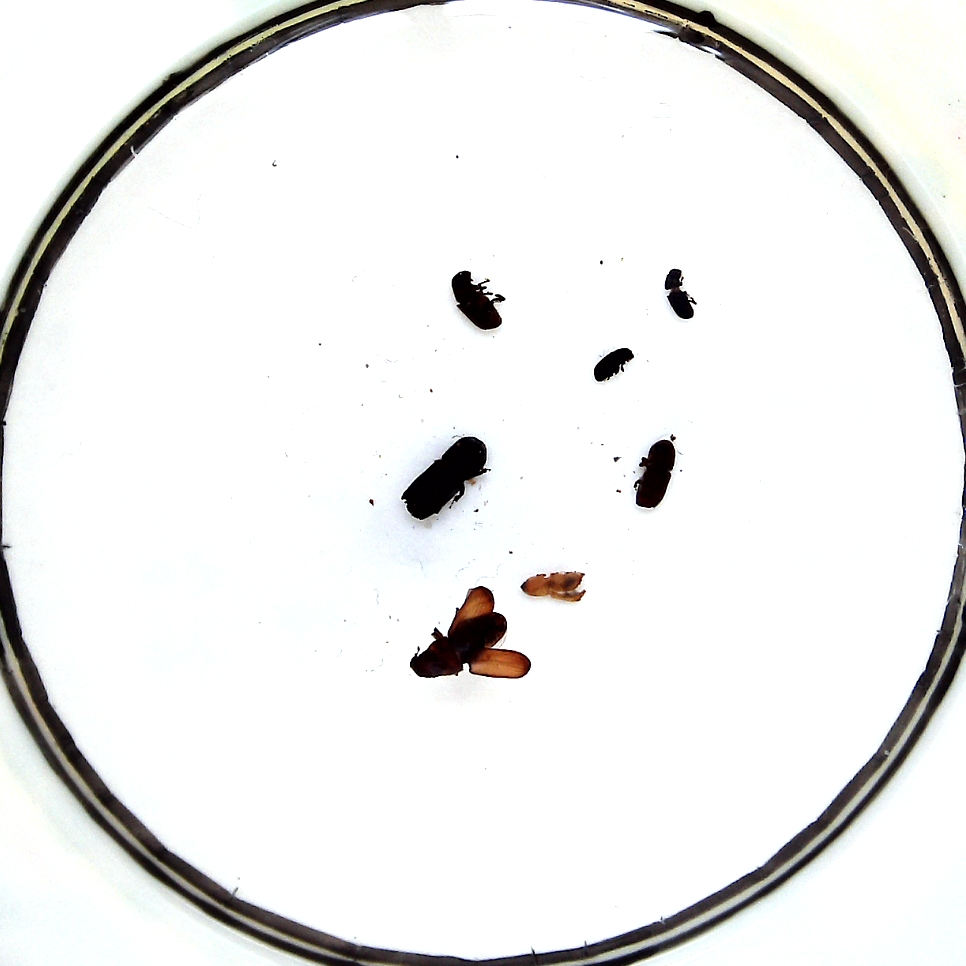Boerner: (401, 436, 487, 519)
Leconte: (409, 610, 507, 677)
acuminatus: (664, 268, 694, 319), (593, 347, 634, 382)
armandi: (451, 271, 501, 330)
coleoptera: (518, 570, 585, 601)
linnaeus: (634, 439, 675, 508)
